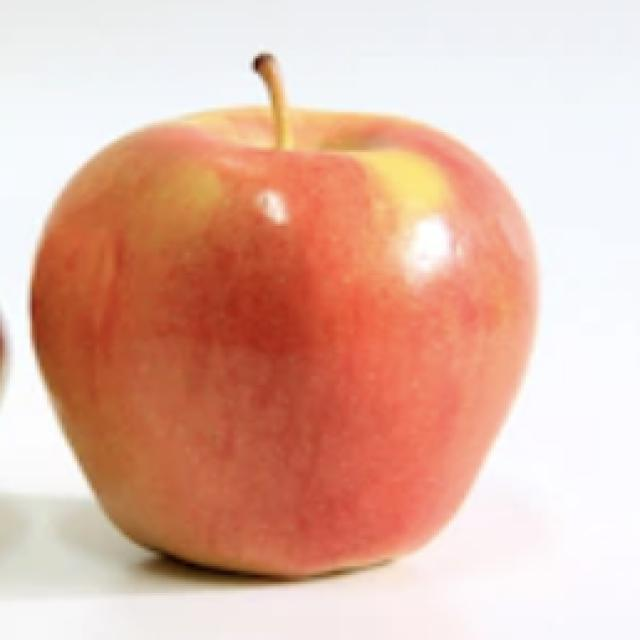Apple: (27, 51, 540, 580)
